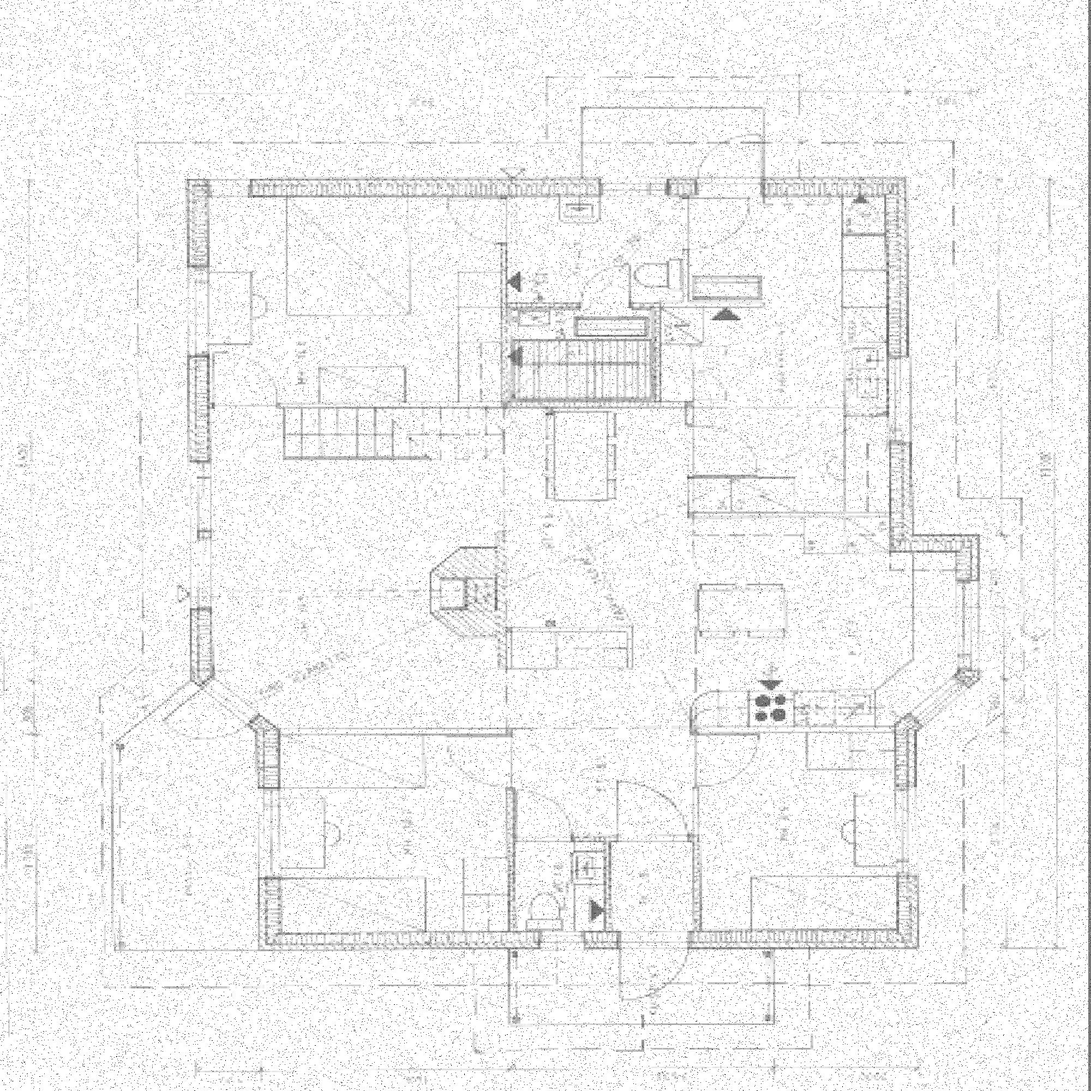wall: (185, 179, 216, 679), (259, 930, 916, 950), (185, 179, 907, 196), (885, 179, 907, 552), (191, 671, 283, 733), (258, 725, 283, 949), (895, 671, 978, 732), (895, 725, 917, 949), (956, 534, 978, 678), (187, 401, 694, 406), (499, 179, 507, 407), (885, 534, 978, 552), (499, 302, 765, 308), (692, 726, 916, 733), (506, 727, 513, 949), (692, 727, 699, 949), (259, 727, 513, 733), (497, 529, 507, 670), (687, 512, 907, 518), (506, 836, 699, 842), (651, 302, 661, 406), (681, 179, 689, 308), (687, 401, 694, 518), (497, 626, 633, 632), (604, 836, 611, 949), (627, 626, 633, 669)
